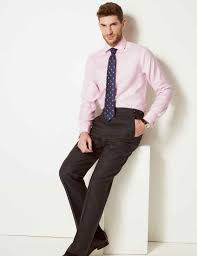F_dress pants: (57, 108, 152, 255)
F_shirt: (68, 38, 175, 137)
F_tie: (105, 46, 119, 123)
